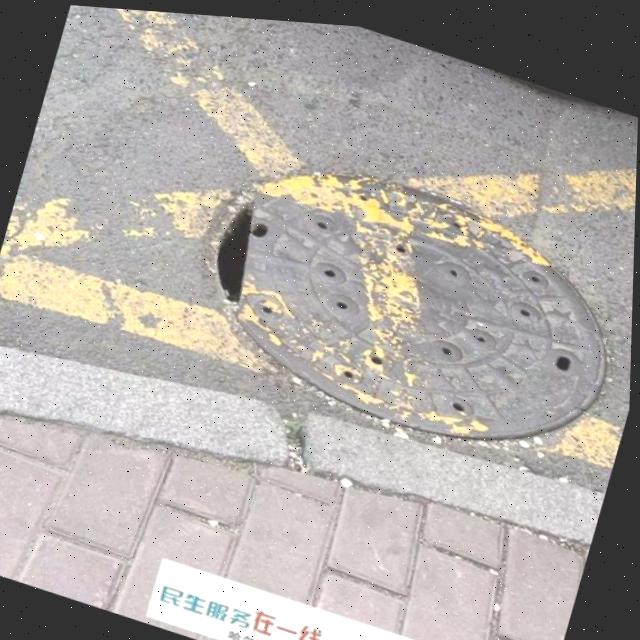manhole: (168, 113, 638, 486)
